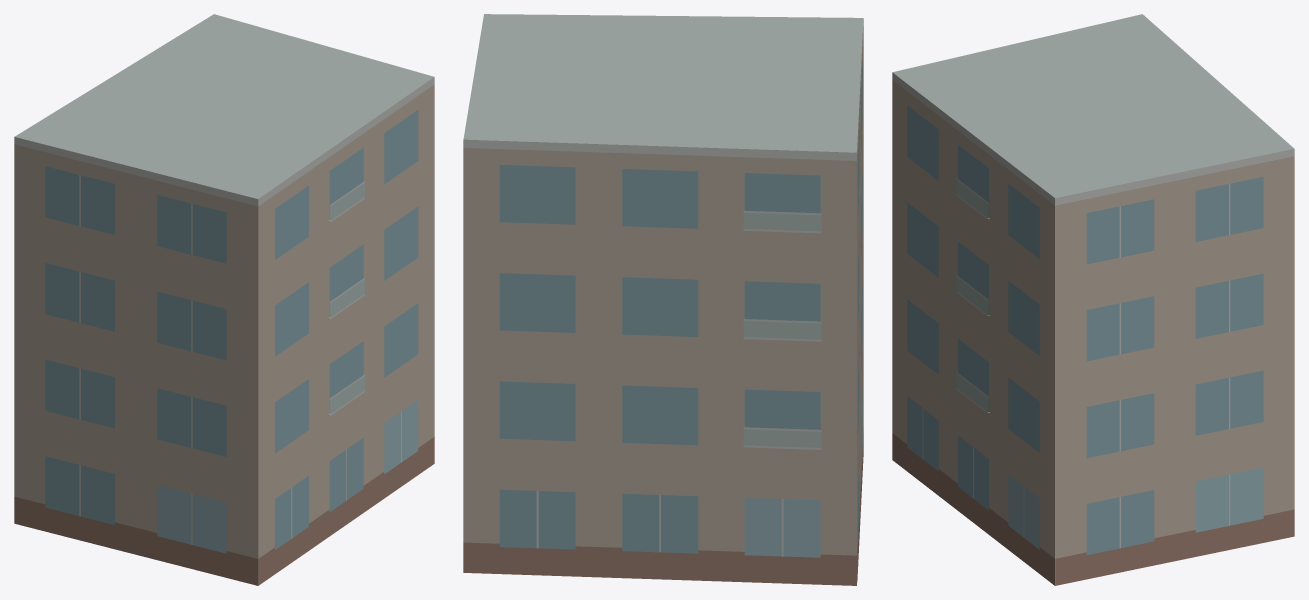
File: survey-upis-32679061.glb
3 renders of one model, left to right at view 1: azimuth 30°, elevation 25°; view 2: azimuth 150°, elevation 25°; view 3: azimuth 270°, elevation 25°, orthographic. The views are drawn at different scales.
Parts seen in each view (by area): view 1: survey-upis-32679061.tmp; view 2: survey-upis-32679061.tmp; view 3: survey-upis-32679061.tmp.
Part boxes in pixels (bbox=[...]): survey-upis-32679061.tmp: bbox=[14, 14, 434, 585]; survey-upis-32679061.tmp: bbox=[463, 14, 863, 585]; survey-upis-32679061.tmp: bbox=[892, 14, 1294, 585].
Size of the model in its own units: 13.06 by 12.8 by 12.05.
